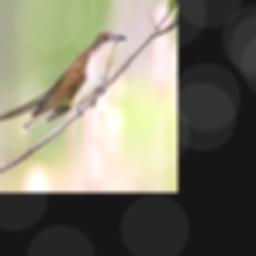Cuckoo: (0, 31, 126, 132)
